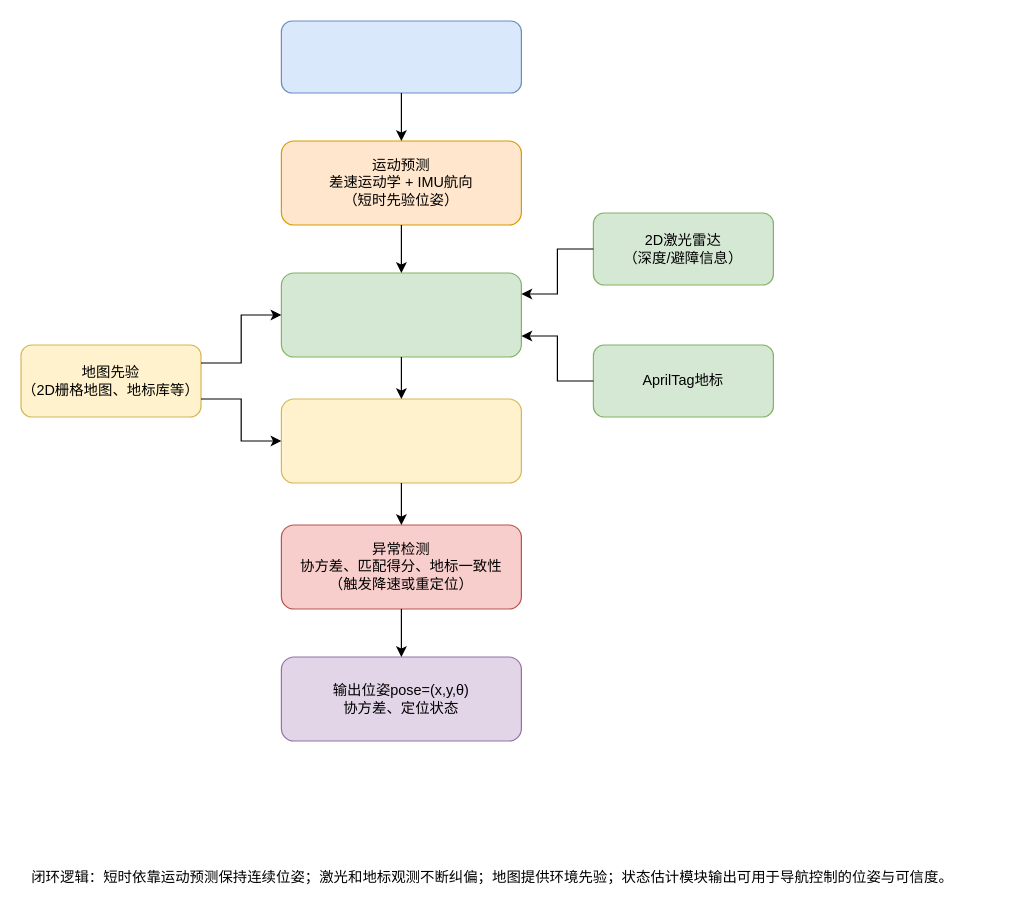
Some shapes in this 1010 by 918 pixel diagram are drawn without their labels. The centre of each missing label's shape, as x and y in pixels:
状态估计 EKF融合局部传感器 粒子滤波处理全局定位: the point at 400,440
观测纠偏 激光匹配 + 地标重定位 （抑制累计漂移）: the point at 400,314
轮式编码器 + IMU （线速度、角速度等）: the point at 400,56
